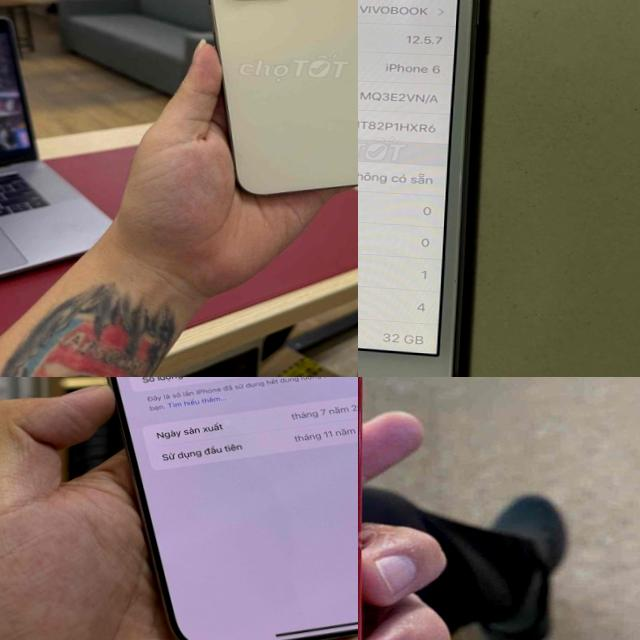gen_14: (191, 0, 358, 208)
gen_16: (32, 377, 358, 640)
gen_6: (358, 0, 499, 377)
